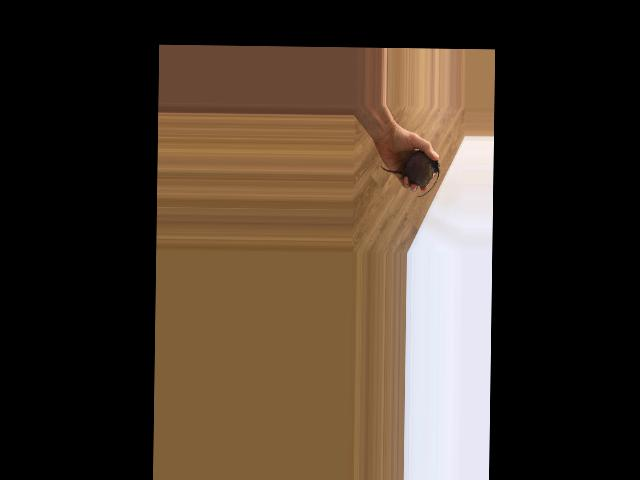beet: (380, 150, 440, 198)
